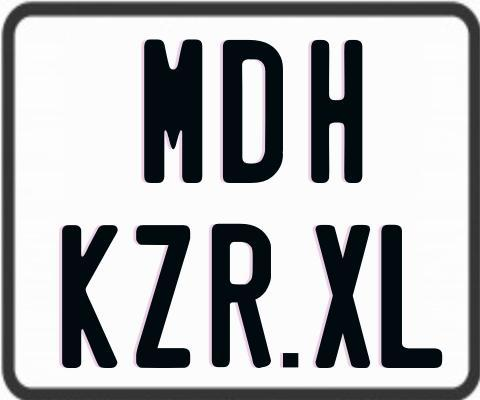D: (221, 40, 284, 187)
H: (310, 39, 365, 183)
K: (60, 225, 118, 369)
L: (380, 225, 443, 368)
M: (144, 39, 207, 188)
R: (210, 221, 269, 366)
X: (312, 222, 368, 365)
Z: (136, 224, 193, 371)
